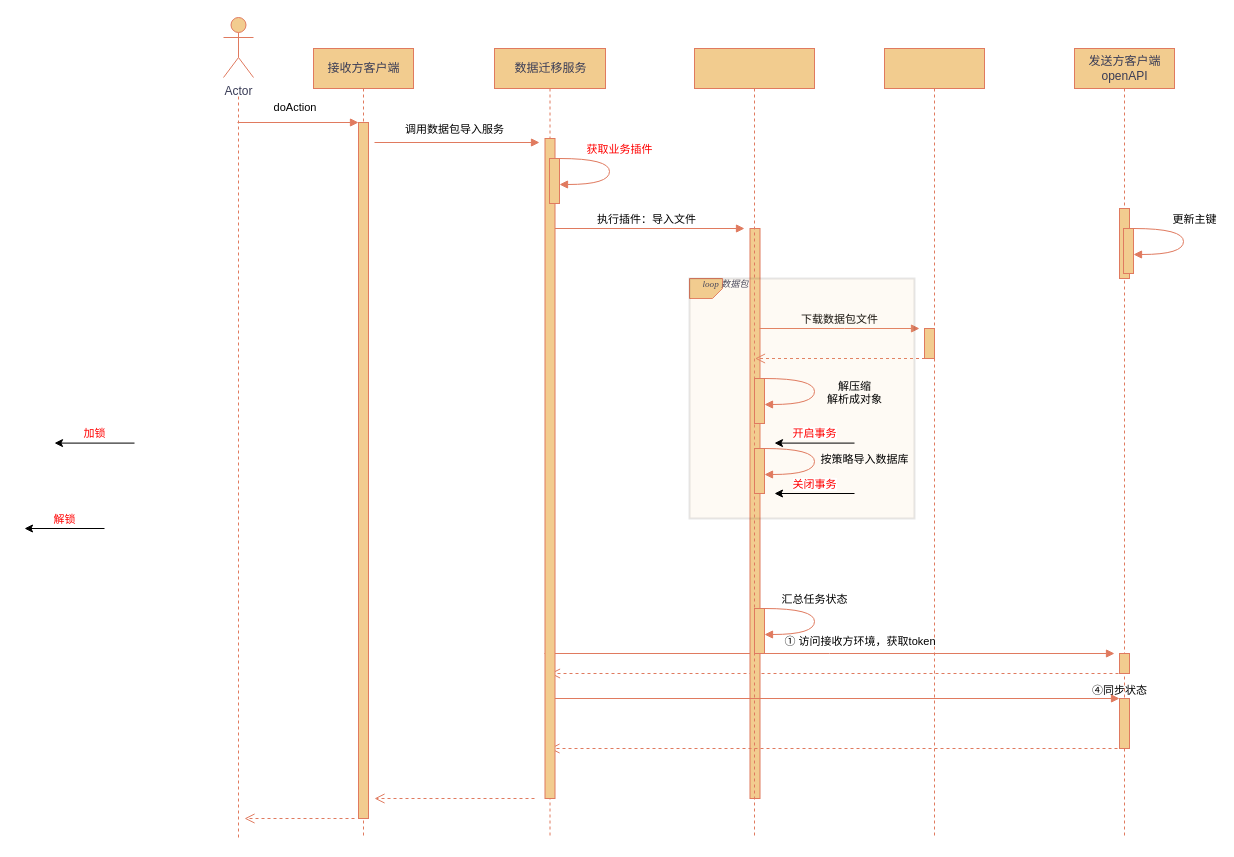
Some shapes in this 1234 by 857 pixel diagram are drawn without their labels. The shapes that lost their labels are listed below. From the top down, each one's box as (x1, y1, x2, y2) in pixels, then its label:
(694, 48, 814, 838): 导入导出服务
(884, 48, 984, 838): 文件服务器
